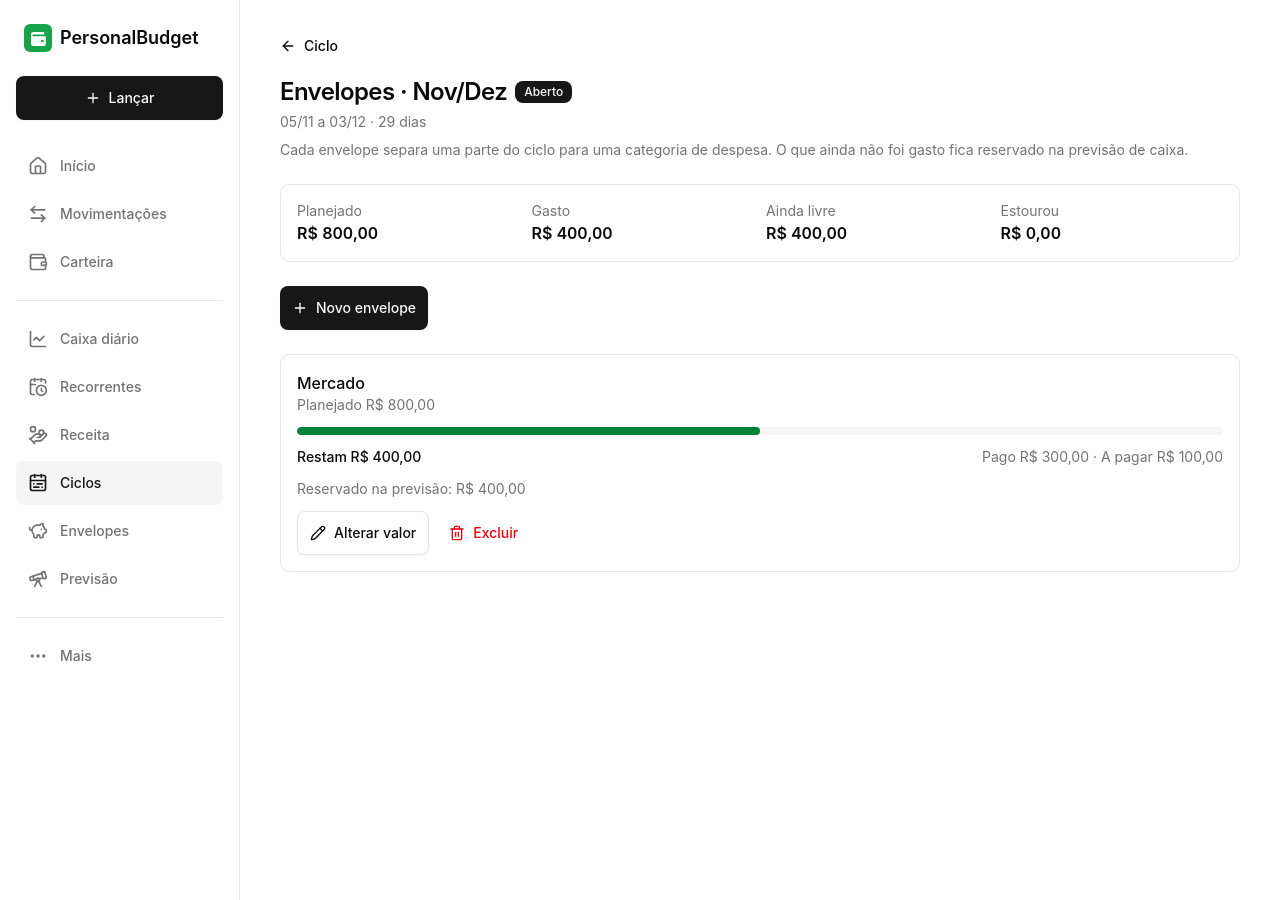
Test case: Envelopes do ciclo › escrita › should create an envelope for a category that has none yet
Click the button "Novo envelope". click: [354, 308]
box: [280, 286, 428, 330]
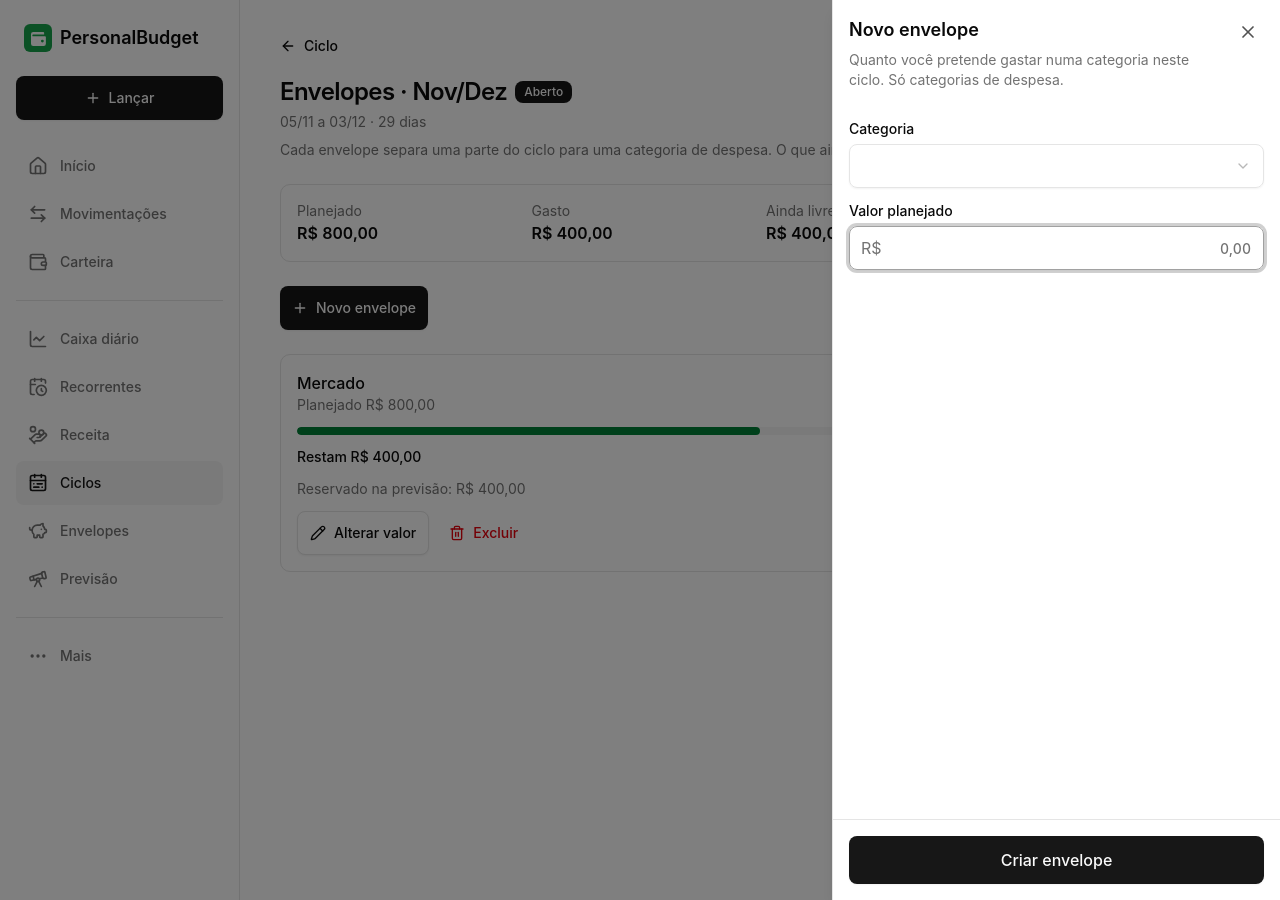
Click the dropdown named "Categoria". click: [1243, 166]
box: [849, 144, 1264, 188]
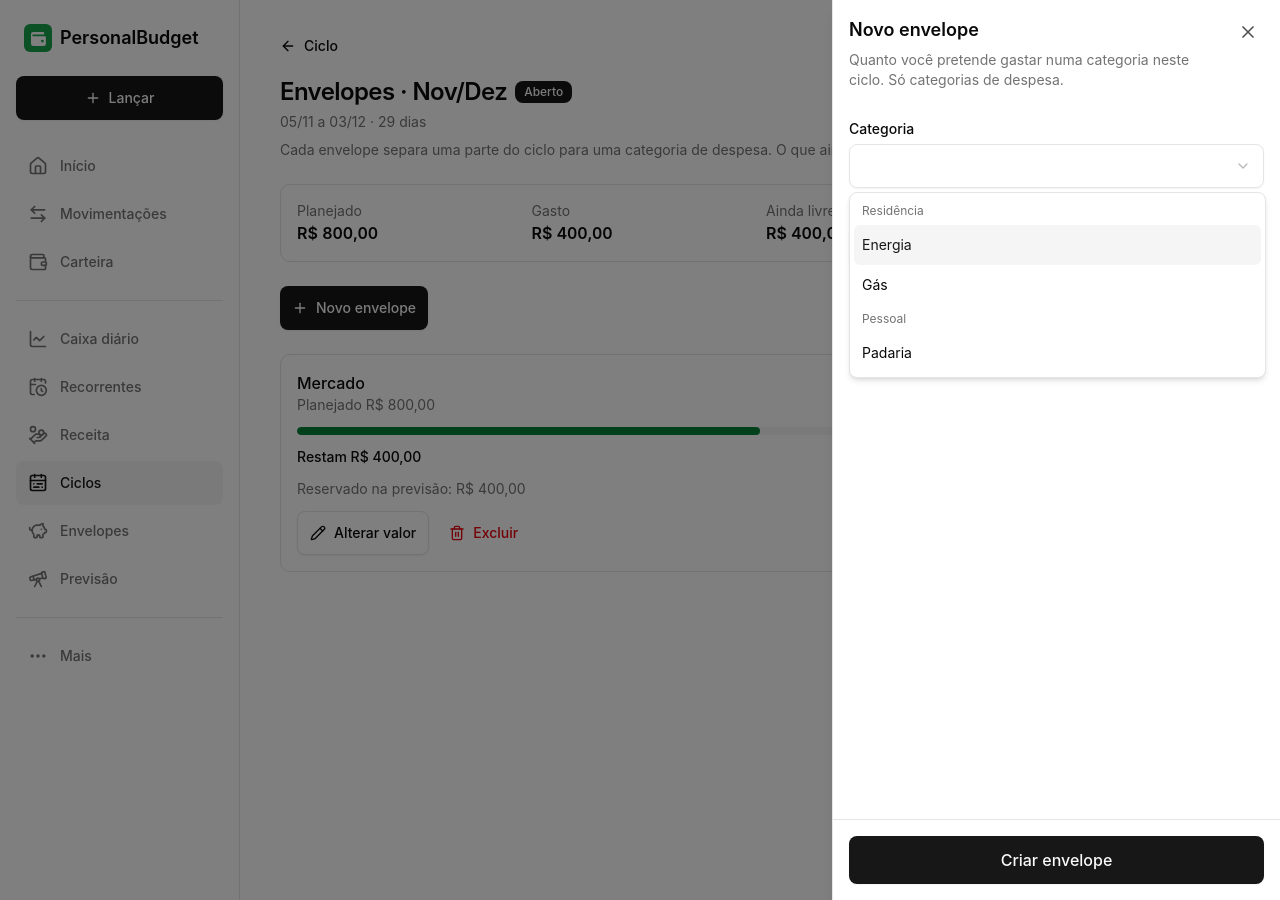
Click the option "Padaria". click: [887, 352]
box: [862, 344, 912, 361]
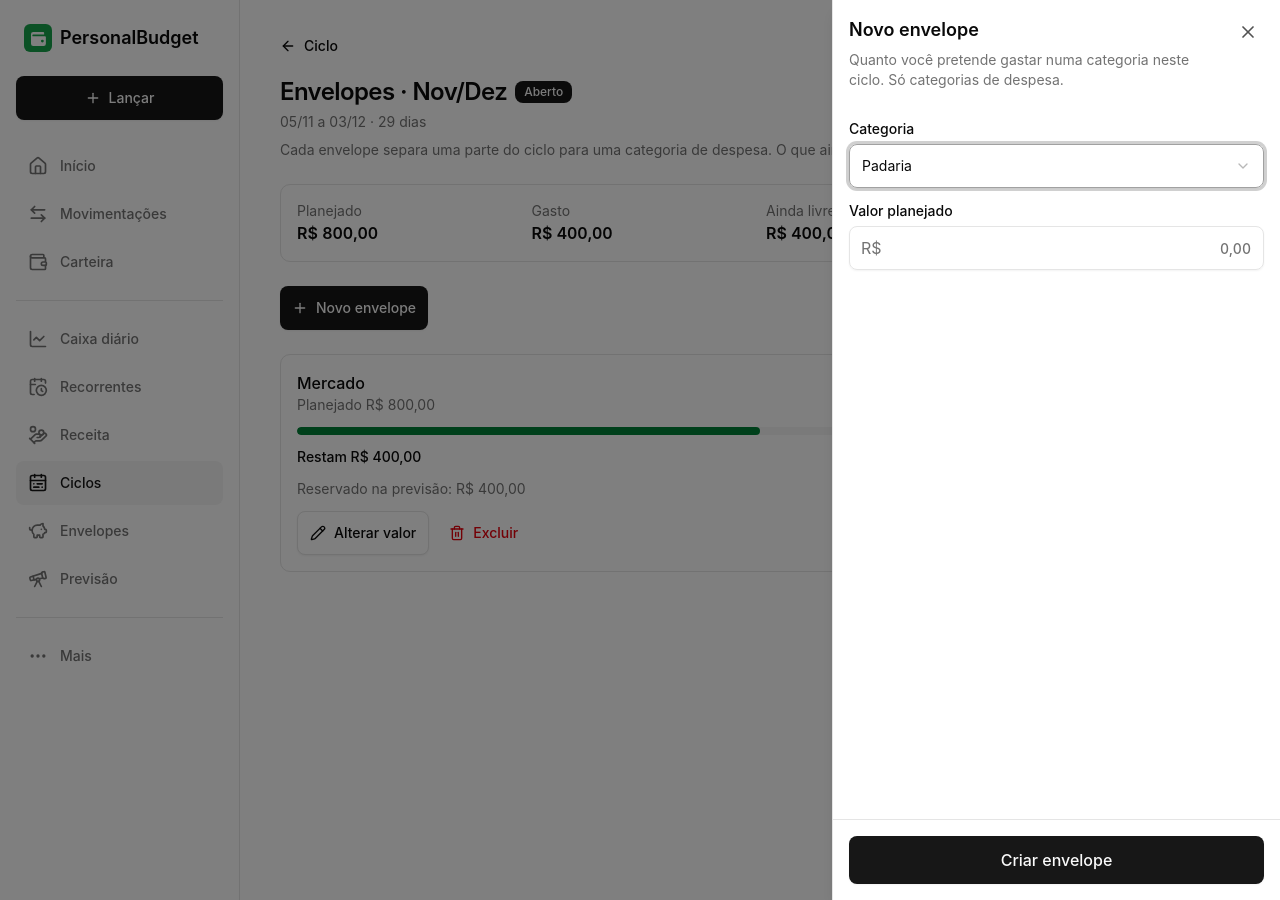
Type "450" into the field labelled "Valor planejado". click: [1056, 248]
box: [849, 226, 1264, 270]
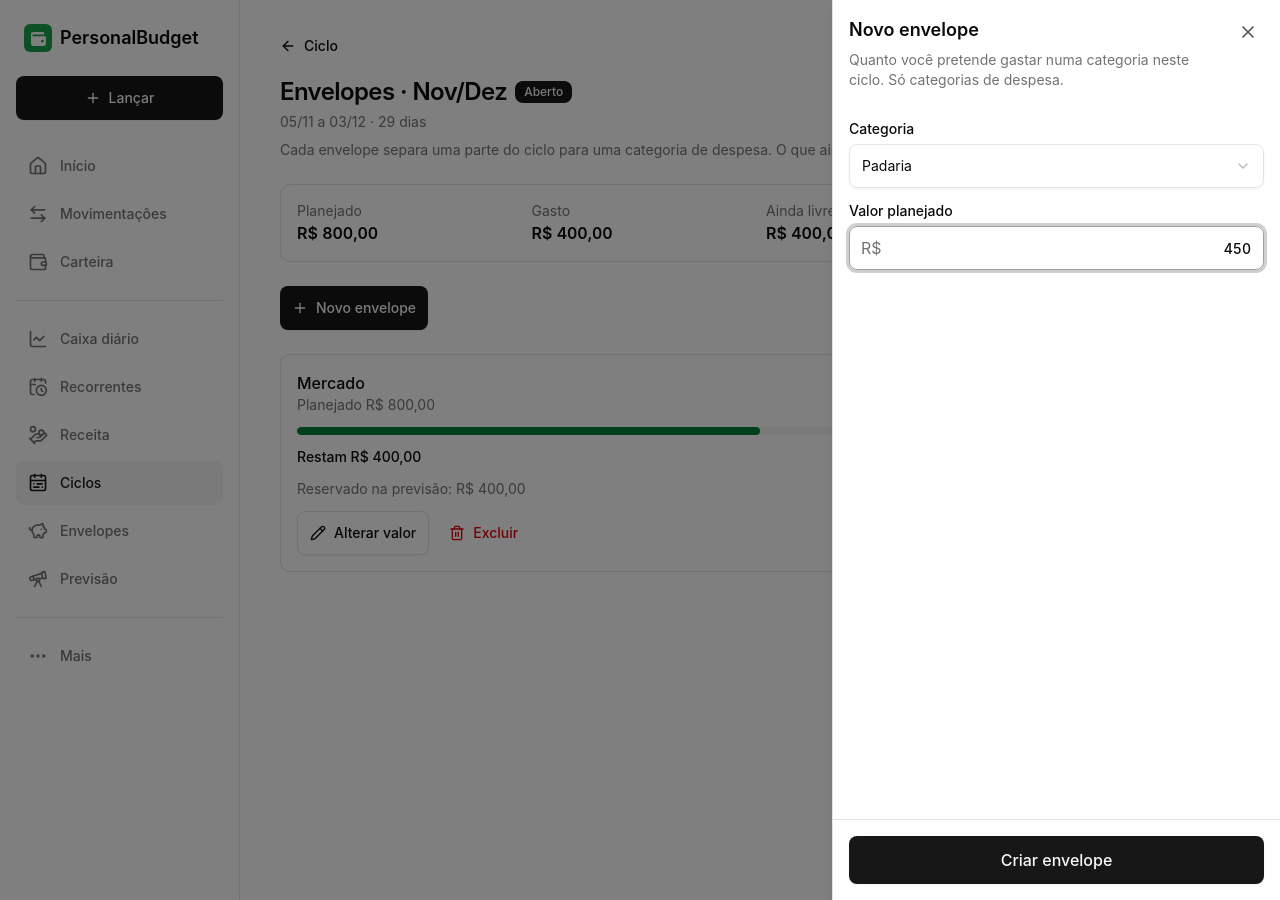
Click the button "Criar envelope". click: [1056, 860]
box: [849, 836, 1264, 884]
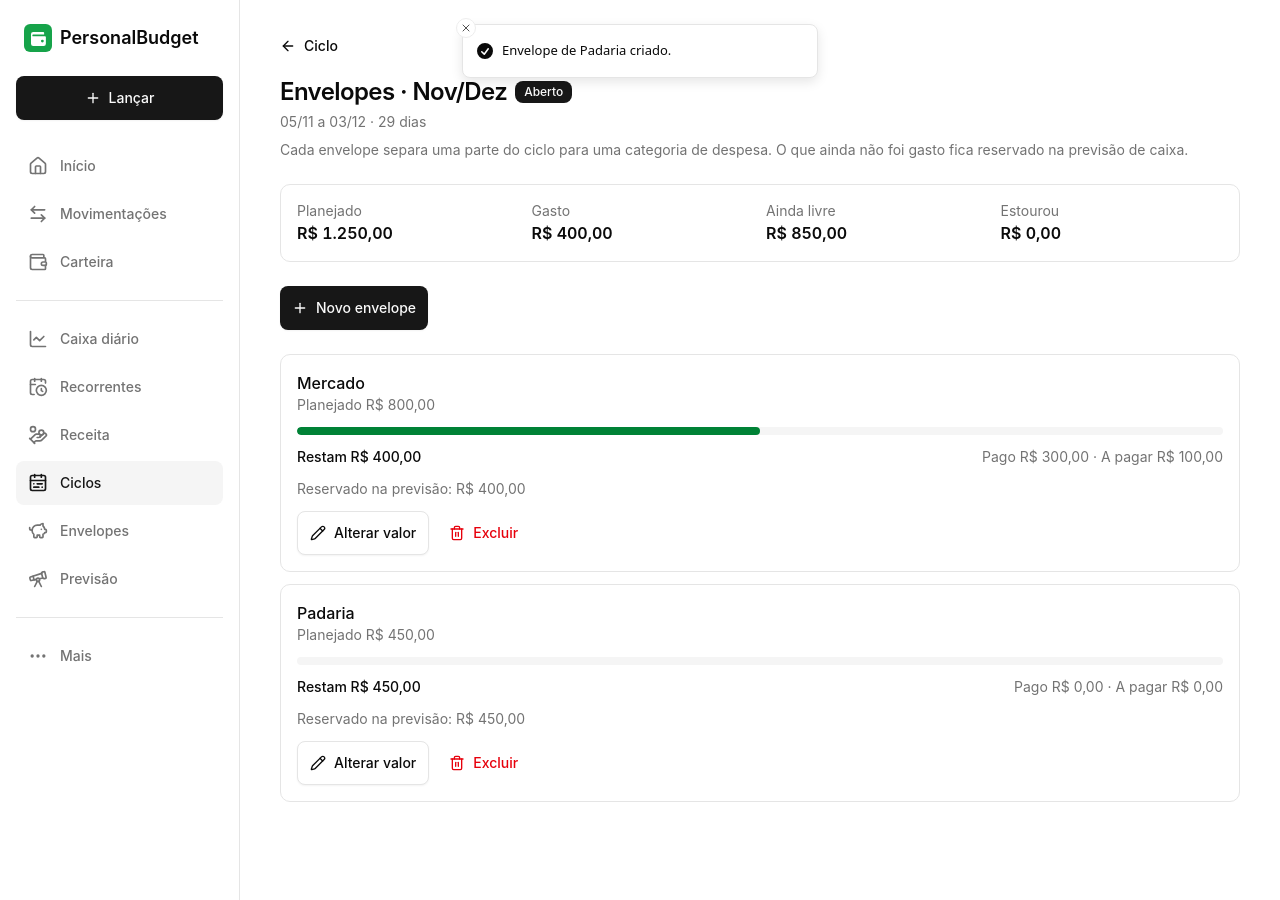
Now the text "Envelope de Padaria criado." is shown, box [502, 41, 671, 60]
Now the heading "Padaria" is shown, box [297, 603, 355, 623]
Now the dialog is gone
